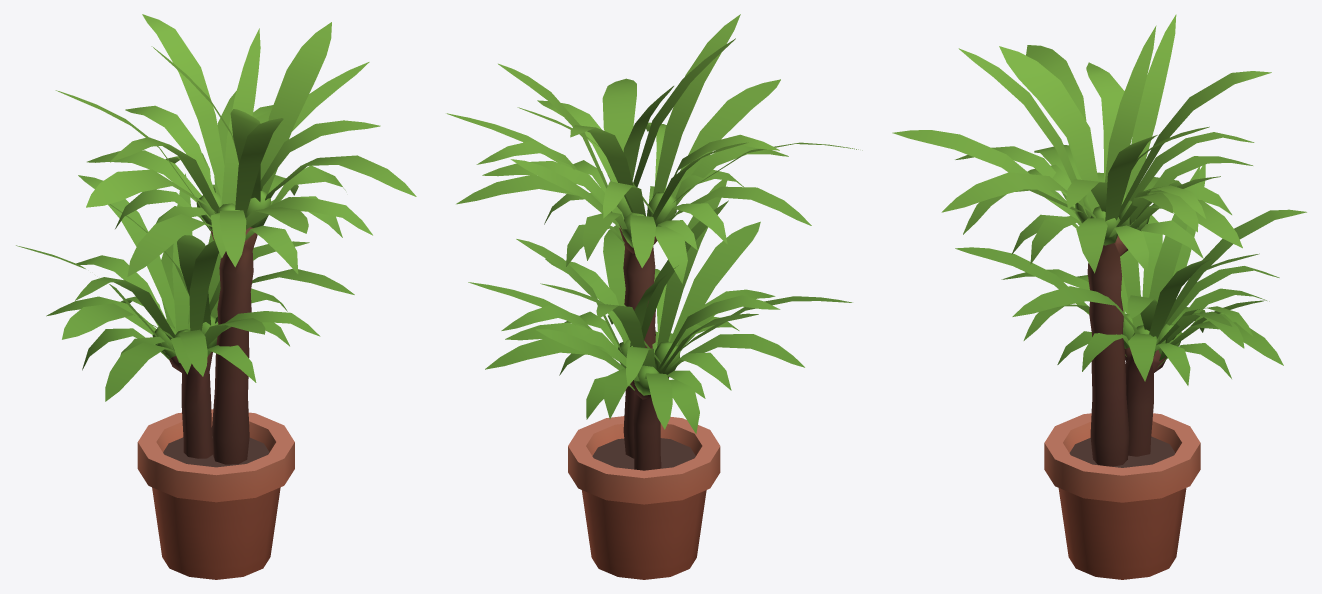
The model's file is casino-assets-glb-flower-03.glb.
3 renders of one model, left to right at view 1: azimuth 30°, elevation 25°; view 2: azimuth 150°, elevation 25°; view 3: azimuth 270°, elevation 25°, orthographic. The views are drawn at different scales.
Parts seen in each view (by area): view 1: Flower_03; view 2: Flower_03; view 3: Flower_03.
Part boxes in pixels (x1=…): Flower_03: x1=16, y1=14, x2=416, y2=579; Flower_03: x1=446, y1=14, x2=862, y2=579; Flower_03: x1=892, y1=14, x2=1306, y2=579.
Bounding box in the file's own units: 1.76 × 2.36 × 1.74.
Materials: 1 (1 with a texture image).
